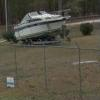Boat: (11, 8, 71, 45)
